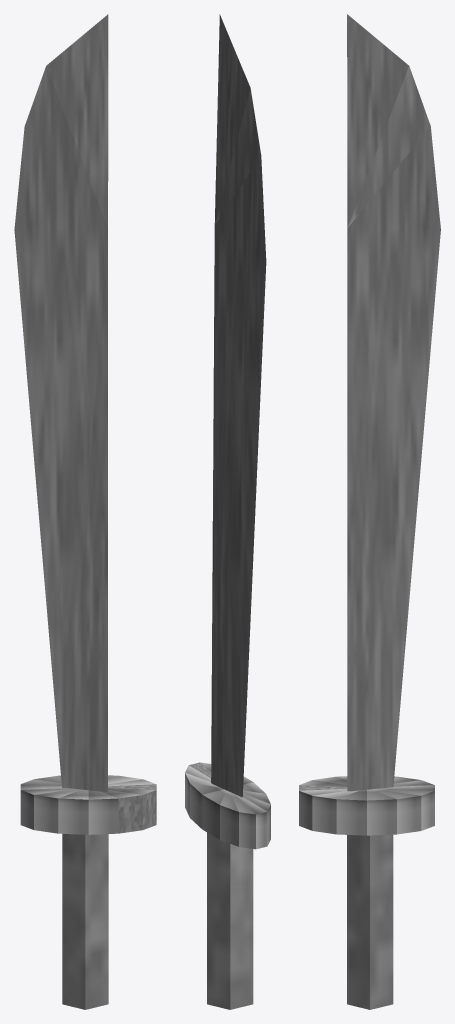
3 renders of one model, left to right at view 1: azimuth 90°, elevation 25°; view 2: azimuth 210°, elevation 25°; view 3: azimuth 270°, elevation 25°, orthographic.
Parts seen in each view (by area): view 1: Head, Handle; view 2: Head, Handle; view 3: Head, Handle.
Boxes of the visible parts, x1,y1,x2,y2 form: Head: [14, 14, 108, 792]; Handle: [20, 775, 156, 1009]; Head: [211, 14, 266, 797]; Handle: [185, 762, 270, 1009]; Head: [347, 14, 440, 791]; Handle: [299, 776, 434, 1009].
Size of the model in its own units: 0.0962 by 1.75 by 0.2286.
